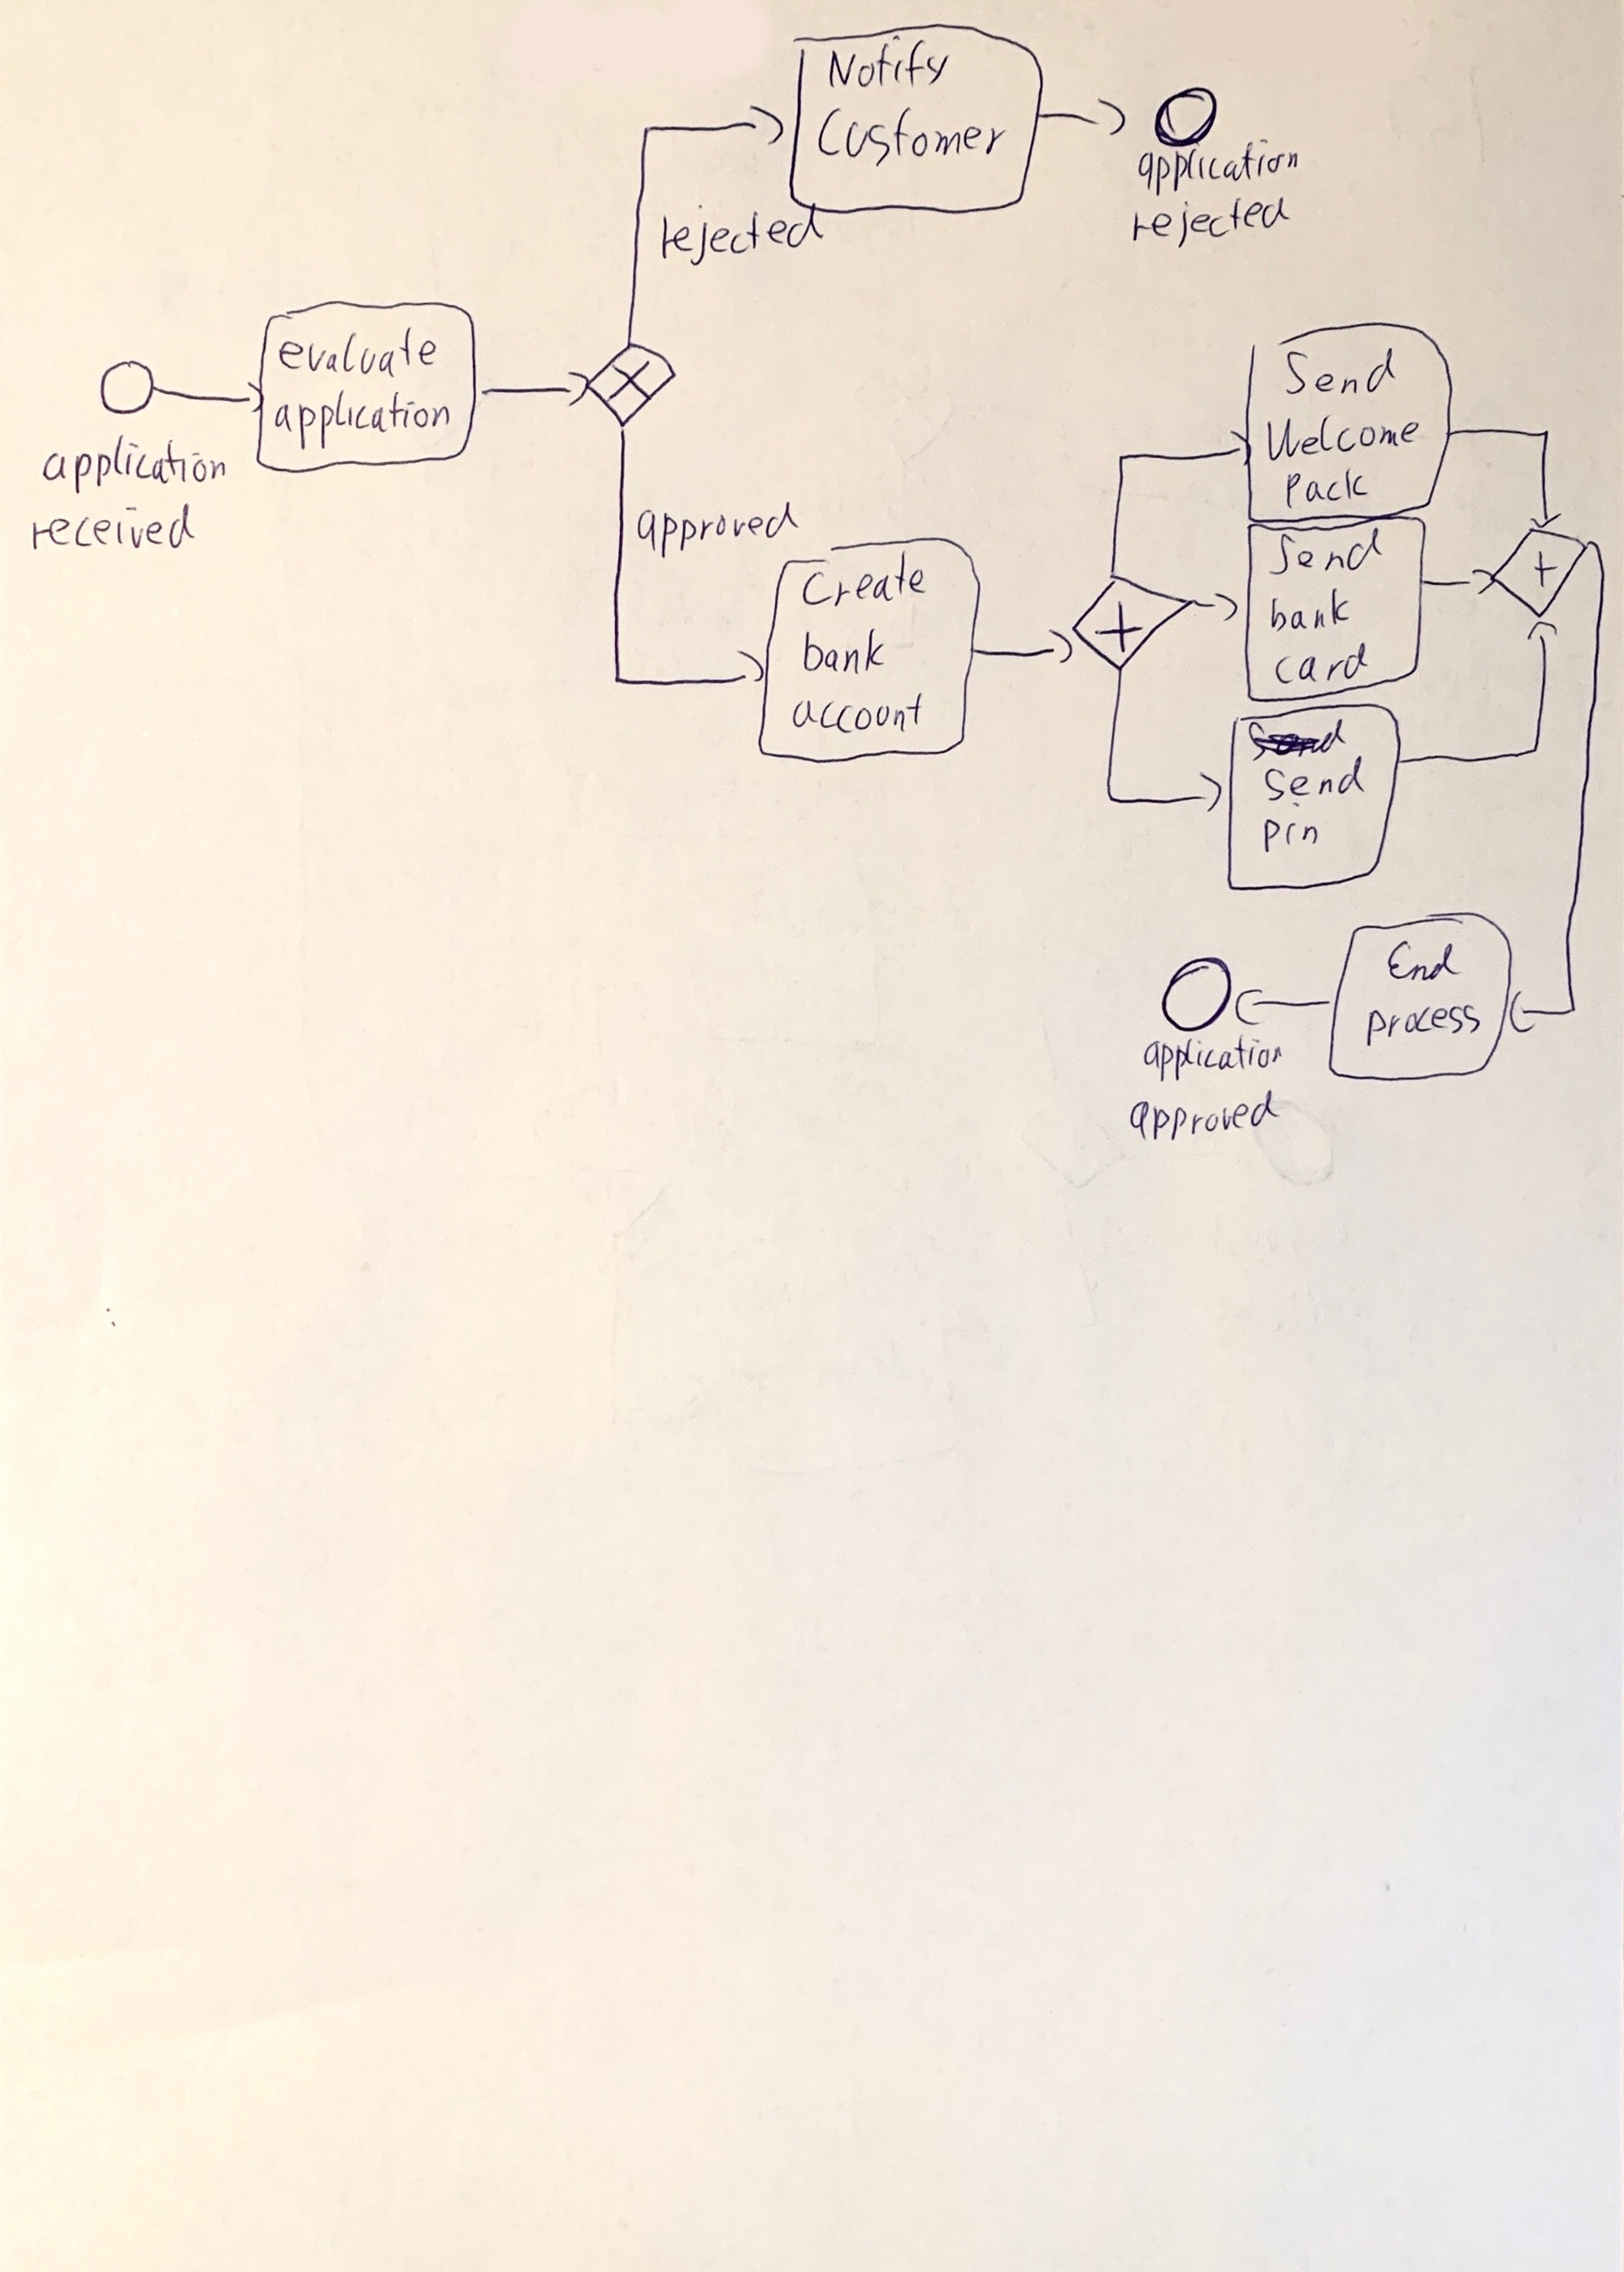End: (1381, 935, 1462, 989)
Notify: (824, 32, 961, 93)
Pack: (1280, 466, 1371, 508)
Send: (1281, 343, 1401, 409), (1264, 527, 1387, 582), (1262, 756, 1367, 808)
Welcome: (1260, 399, 1427, 469)
account: (786, 684, 935, 745)
application: (267, 380, 455, 452), (33, 432, 243, 494), (1130, 132, 1308, 197), (1137, 1030, 1288, 1082)
approved: (633, 492, 807, 559), (1128, 1086, 1283, 1149)
bank: (798, 629, 891, 675), (1265, 590, 1355, 636)
card: (1271, 638, 1373, 691)
create: (803, 548, 932, 613)
customer: (810, 107, 1007, 172)
evaluate: (271, 316, 448, 392)
pin: (1253, 800, 1334, 854)
process: (1364, 1000, 1485, 1051)
received: (19, 497, 206, 557)
rejected: (645, 197, 835, 272), (1125, 190, 1297, 251)
